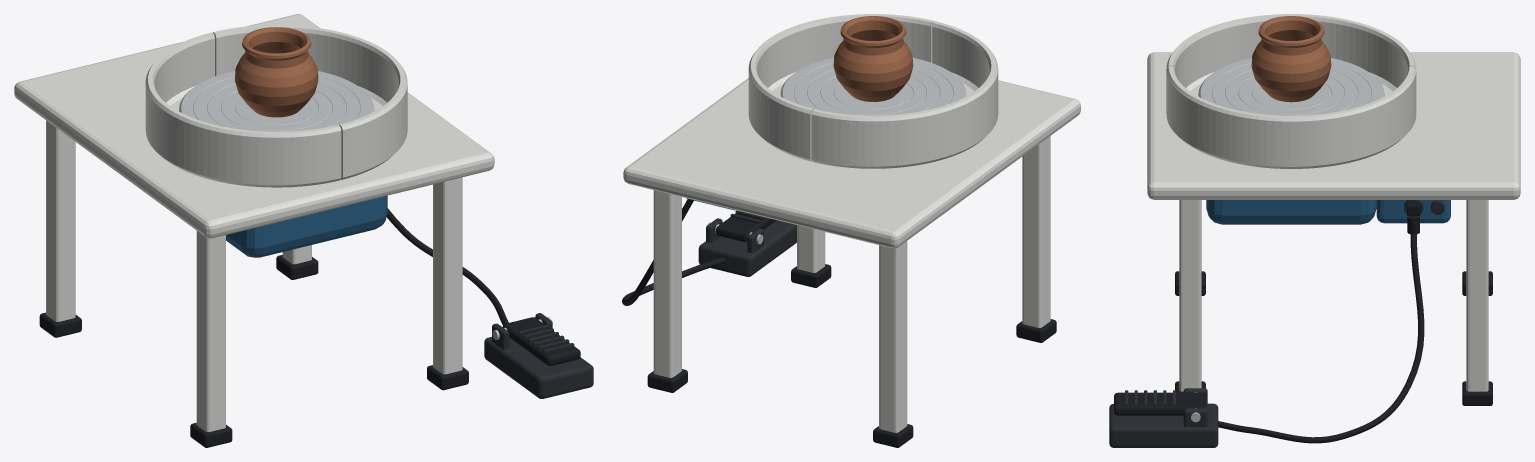
3 views of the same model, side by side, from view 1: azimuth 30°, elevation 25°; view 2: azimuth 150°, elevation 25°; view 3: azimuth 270°, elevation 25° (orthographic). The views are drawn at different scales.
Parts seen in each view (by area): view 1: Worktable top, Splashpan left shell, Splashpan right shell, Rotating grooved wheelhead, Rotating original hollow clay vessel, Square leg -0.245 -0.27, Square leg 0.245 -0.27, Square leg -0.245 0.27, Motor housing, Pedal fixed base, Pedal moving rocker, Foot pedal signal cable (+4 smaller); view 2: Worktable top, Splashpan left shell, Splashpan right shell, Rotating grooved wheelhead, Rotating original hollow clay vessel, Square leg -0.245 0.27, Square leg 0.245 0.27, Square leg -0.245 -0.27, Pedal fixed base, Square leg 0.245 -0.27, Foot pedal signal cable, Pedal moving rocker (+4 smaller); view 3: Worktable top, Splashpan right shell, Splashpan left shell, Rotating grooved wheelhead, Rotating original hollow clay vessel, Square leg 0.245 0.27, Square leg 0.245 -0.27, Motor housing, Pedal fixed base, Foot pedal signal cable, Pedal moving rocker, Control side housing (+2 smaller).
Boxes of the visible parts, box(x1,y1,x2,y2) form: Worktable top: box(14, 14, 494, 238); Splashpan left shell: box(145, 32, 341, 187); Splashpan right shell: box(212, 25, 407, 179); Rotating grooved wheelhead: box(179, 71, 374, 131); Rotating original hollow clay vessel: box(235, 27, 318, 117); Square leg -0.245 -0.27: box(196, 231, 225, 432); Square leg 0.245 -0.27: box(433, 177, 462, 374); Square leg -0.245 0.27: box(46, 120, 75, 321); Motor housing: box(226, 195, 387, 257); Pedal fixed base: box(484, 337, 593, 398); Pedal moving rocker: box(502, 317, 580, 366); Foot pedal signal cable: box(386, 208, 508, 324); Worktable top: box(623, 78, 1080, 248); Splashpan left shell: box(811, 21, 998, 168); Splashpan right shell: box(748, 14, 934, 161); Rotating grooved wheelhead: box(780, 58, 966, 115); Rotating original hollow clay vessel: box(833, 16, 913, 101); Square leg -0.245 0.27: box(879, 241, 907, 432); Square leg 0.245 0.27: box(653, 190, 681, 377); Square leg -0.245 -0.27: box(1022, 136, 1050, 327); Pedal fixed base: box(698, 220, 796, 276); Square leg 0.245 -0.27: box(797, 225, 825, 272); Foot pedal signal cable: box(622, 199, 725, 305); Pedal moving rocker: box(716, 213, 776, 242); Worktable top: box(1147, 52, 1520, 199); Splashpan right shell: box(1166, 66, 1416, 168); Splashpan left shell: box(1166, 14, 1416, 95); Rotating grooved wheelhead: box(1198, 58, 1384, 115); Rotating original hollow clay vessel: box(1251, 16, 1331, 102); Square leg 0.245 0.27: box(1466, 200, 1488, 391); Square leg 0.245 -0.27: box(1179, 200, 1201, 391); Motor housing: box(1206, 200, 1376, 224); Pedal fixed base: box(1109, 403, 1218, 447); Foot pedal signal cable: box(1218, 234, 1424, 443); Pedal moving rocker: box(1114, 392, 1204, 415); Control side housing: box(1376, 200, 1450, 223).
Bounding box in the file's own units: 0.7785 × 0.657 × 0.7735.
